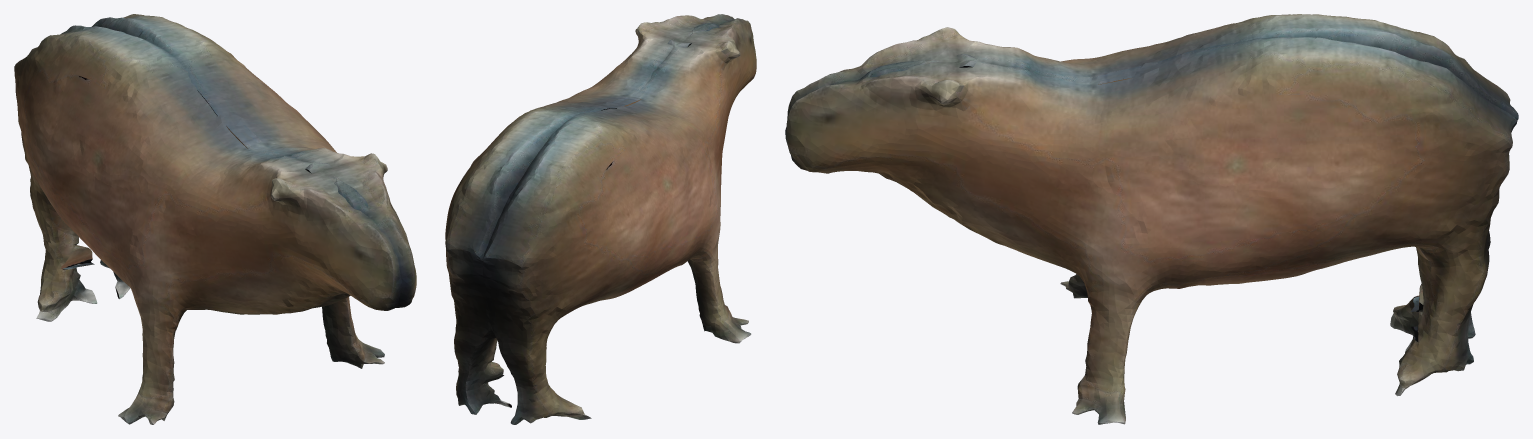
3 renders of one model, left to right at view 1: azimuth 30°, elevation 25°; view 2: azimuth 150°, elevation 25°; view 3: azimuth 270°, elevation 25°, orthographic. The views are drawn at different scales.
Visible parts, largest first — view 1: Mesh_0.001; view 2: Mesh_0.001; view 3: Mesh_0.001.
Boxes of the visible parts, left/top/right/bottom form: Mesh_0.001: left=14, top=14, right=416, bottom=424; Mesh_0.001: left=445, top=14, right=756, bottom=424; Mesh_0.001: left=785, top=14, right=1518, bottom=424.
Bounding box in the file's own units: 0.5764 × 0.6119 × 1.24.
Materials: 1 (1 with a texture image).
